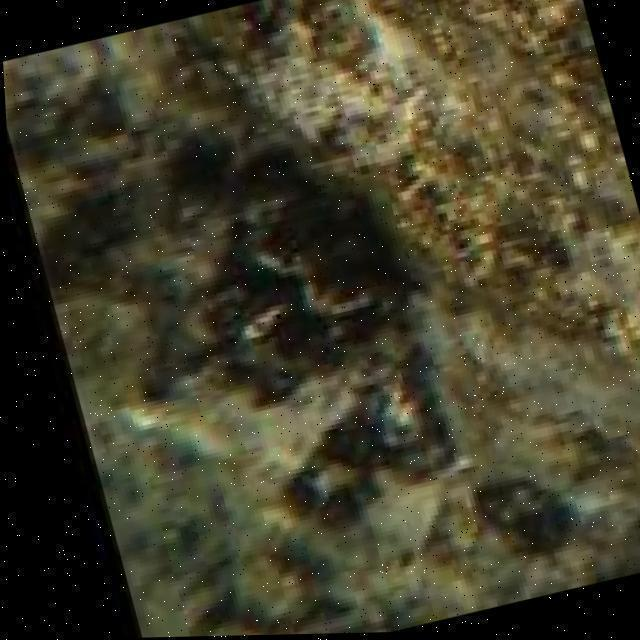Dead Coral: (48, 75, 460, 459)
